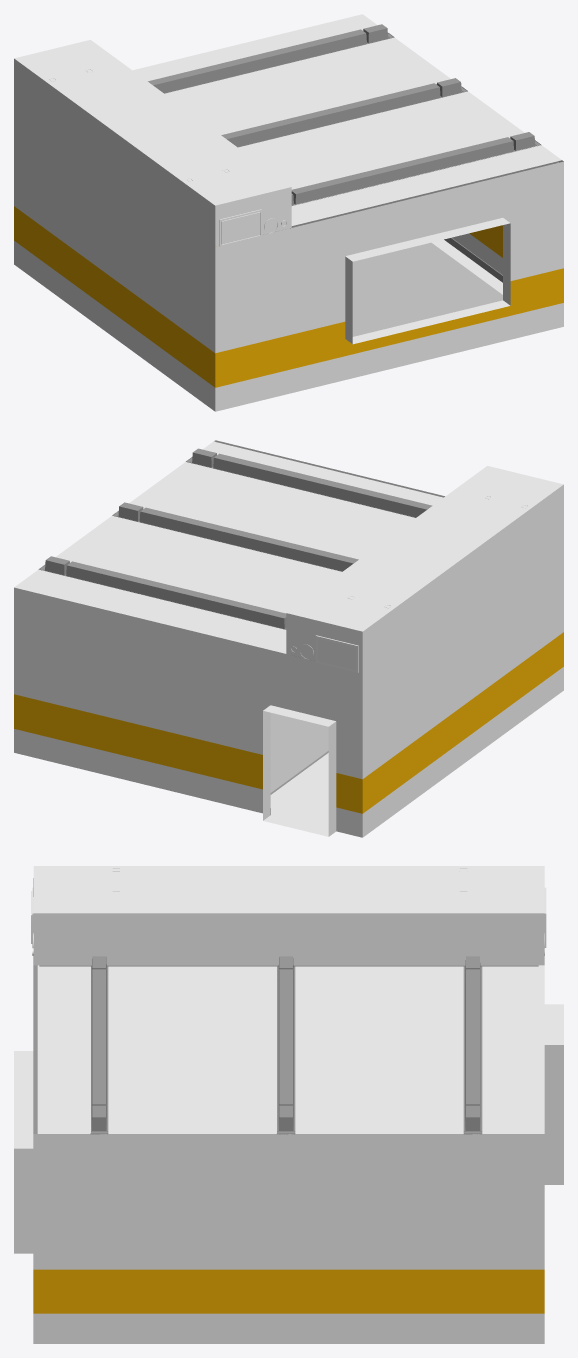
3 renders of one model, top to bottom at view 1: azimuth 30°, elevation 25°; view 2: azimuth 150°, elevation 25°; view 3: azimuth 270°, elevation 25°, orthographic. The views are drawn at different scales.
Parts seen in each view (by area): view 1: SM_H_Building_FutureTech_PrintArea_InterWall_03; view 2: SM_H_Building_FutureTech_PrintArea_InterWall_03; view 3: SM_H_Building_FutureTech_PrintArea_InterWall_03.
Part boxes in pixels (left/top/right/bottom): SM_H_Building_FutureTech_PrintArea_InterWall_03: left=14, top=14, right=563, bottom=411; SM_H_Building_FutureTech_PrintArea_InterWall_03: left=14, top=440, right=563, bottom=837; SM_H_Building_FutureTech_PrintArea_InterWall_03: left=14, top=866, right=563, bottom=1343.
Bounding box in the file's own units: 328 × 305 × 173.
